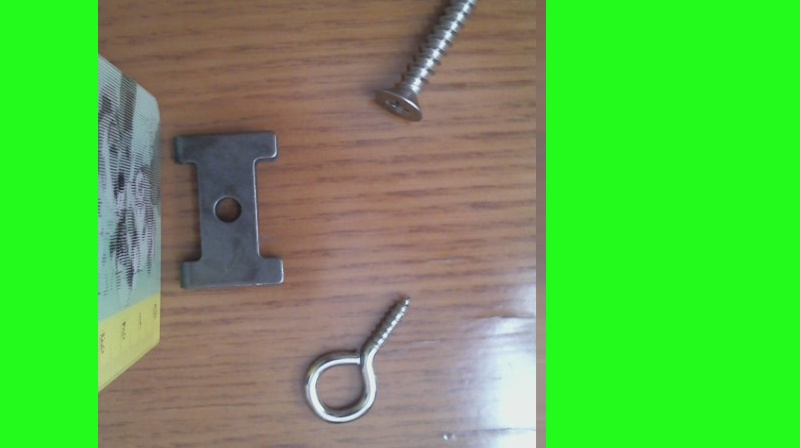O001: (298, 291, 418, 427)
O002: (172, 127, 286, 294)
S001: (369, 0, 484, 129)
